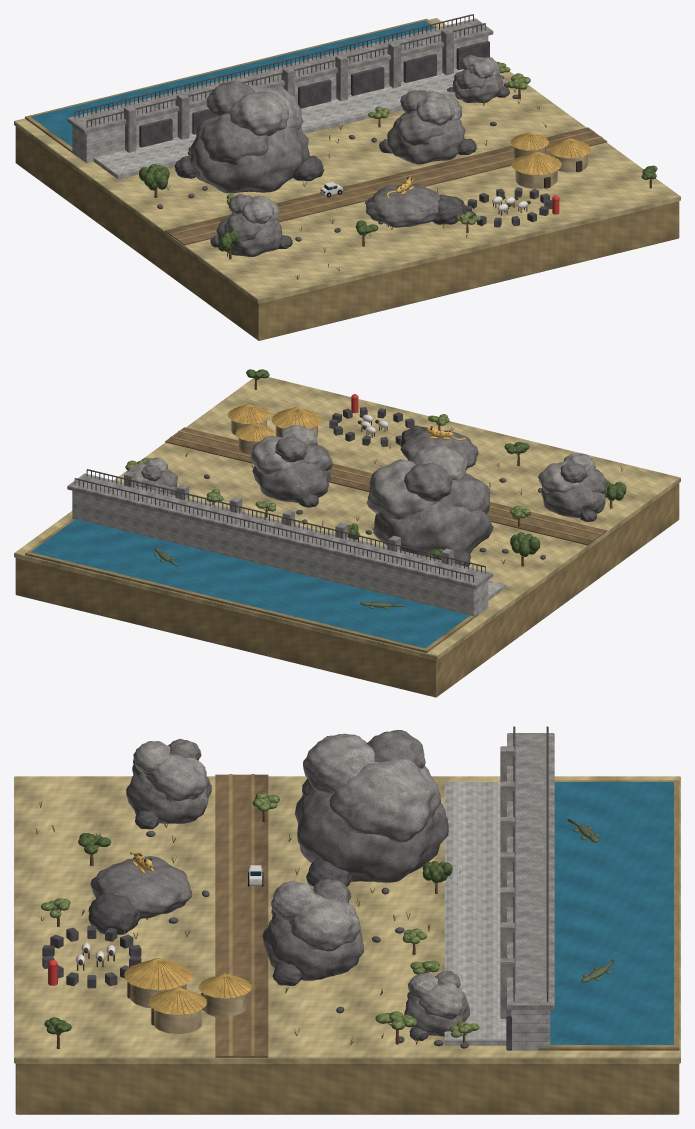
File: jawai_tile.glb
3 views of the same model, one above another, from view 1: azimuth 30°, elevation 25°; view 2: azimuth 150°, elevation 25°; view 3: azimuth 270°, elevation 25° (orthographic). The views are drawn at different scales.
Parts seen in each view (by area): view 1: jawai_tile; view 2: jawai_tile; view 3: jawai_tile.
Part boxes in pixels (bbox=[...]): jawai_tile: bbox=[14, 14, 680, 340]; jawai_tile: bbox=[14, 369, 680, 697]; jawai_tile: bbox=[14, 726, 680, 1114].
Size of the model in its own units: 12 by 3.52 by 12.
25 materials, 15 textured.
